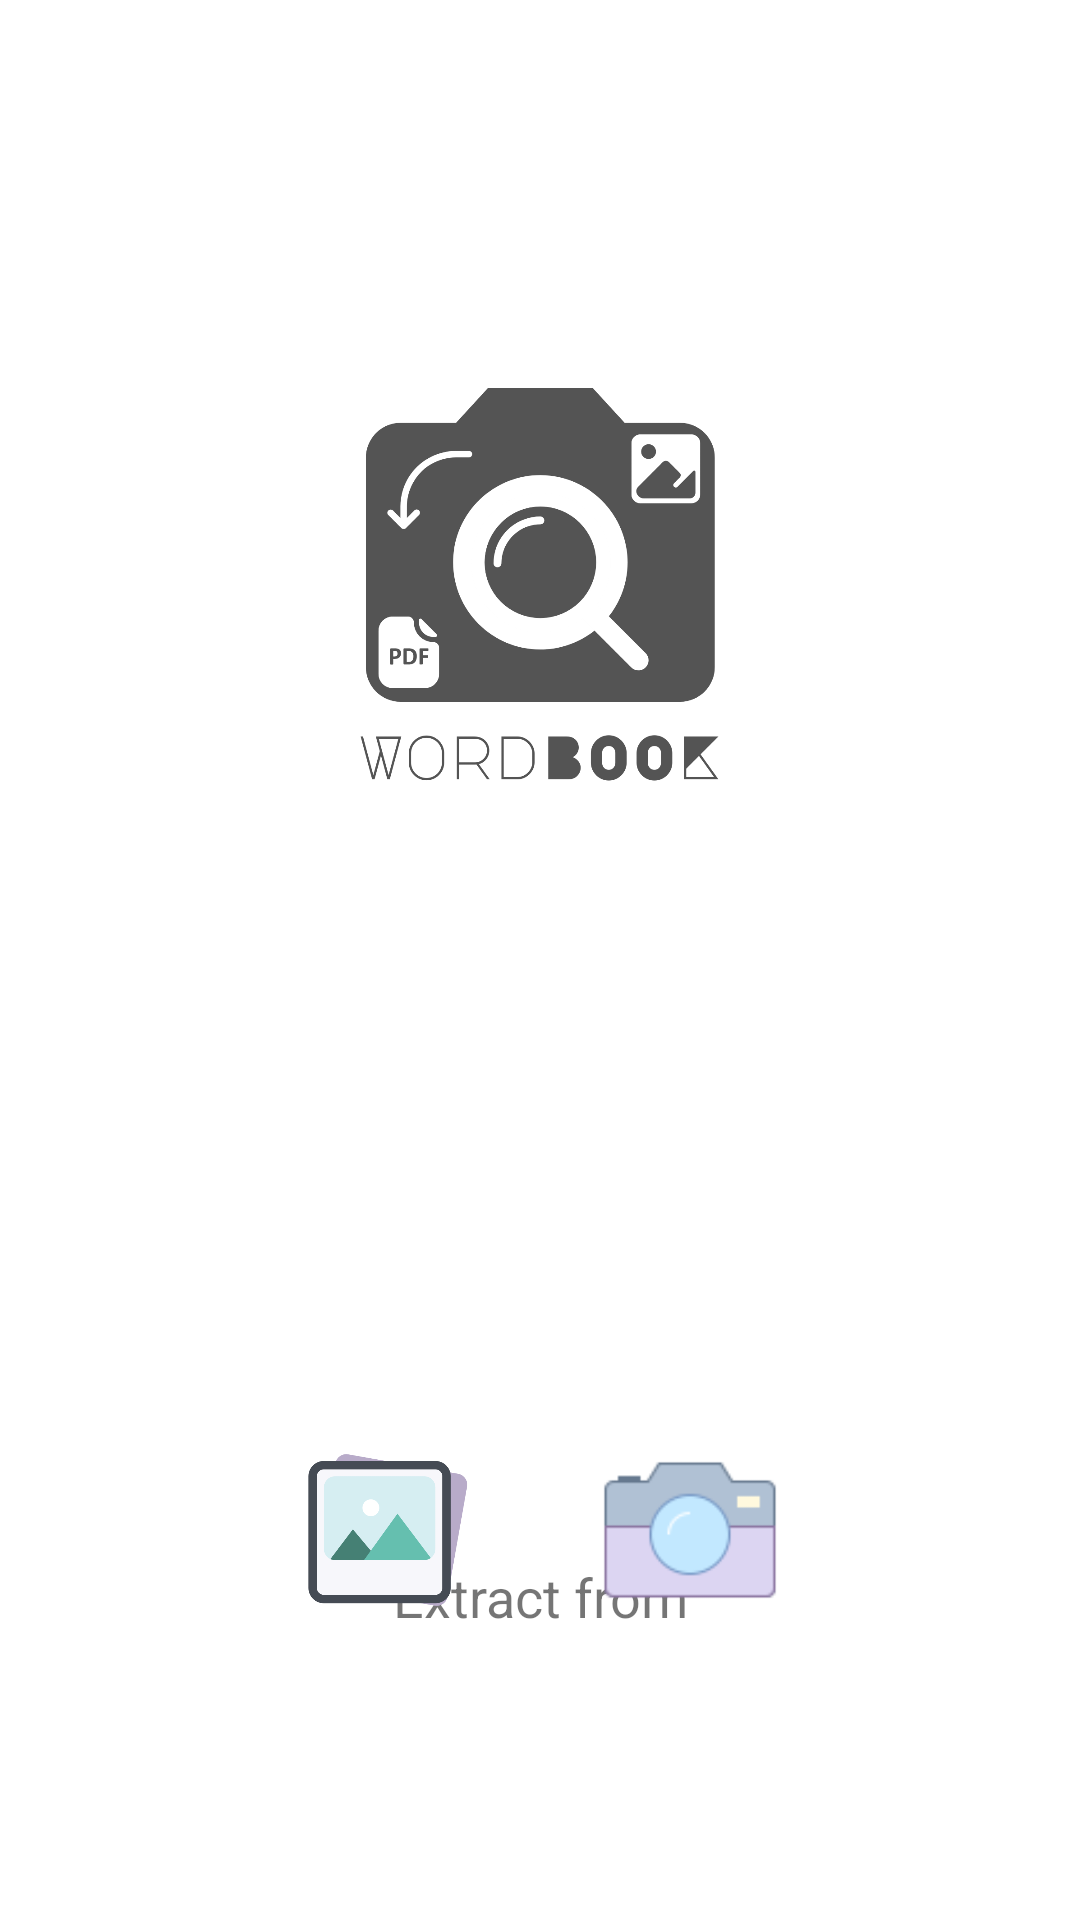

Icon click points for this 1080 × 1920 phone screenshot, format [x,y]:
cam: [688,1540]
gallery: [387,1536]
